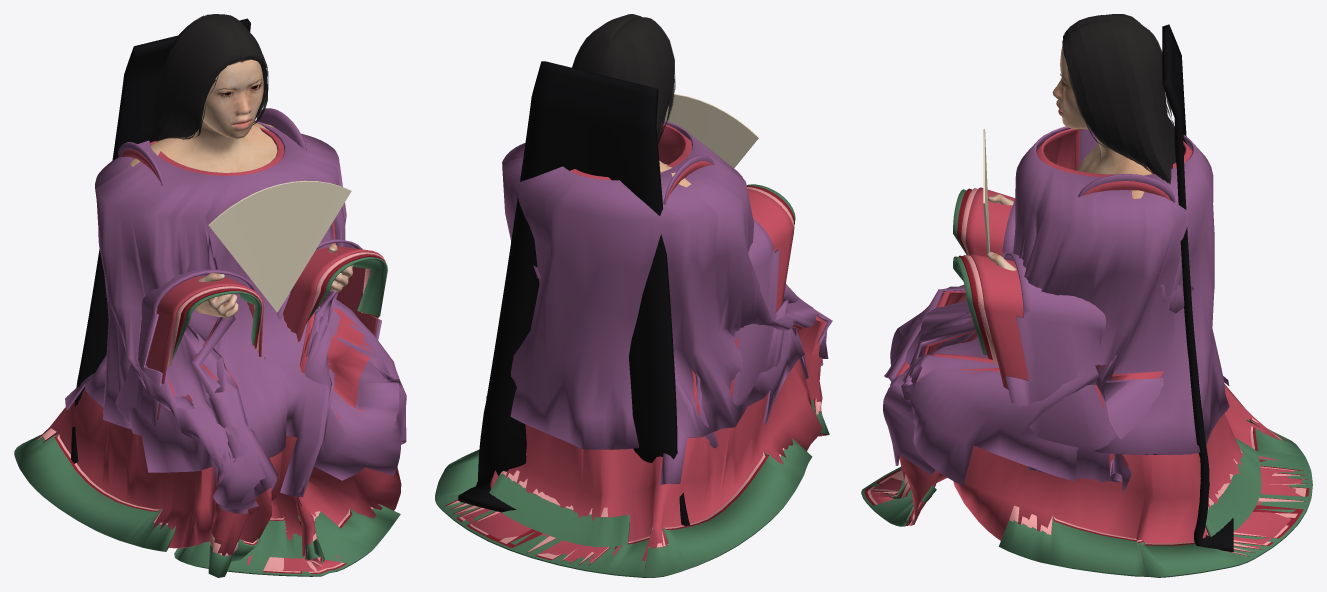
Rendered from nyo_kouchiki.glb.
The picture shows the model from 3 angles, left to right: view 1: azimuth 30°, elevation 25°; view 2: azimuth 150°, elevation 25°; view 3: azimuth 270°, elevation 25°; orthographic projection. The views are drawn at different scales.
Visible parts, largest first — view 1: kouchiki, uchiki, kasane3, ougi, Human, Human.long01, kami, karaginu_sode.R, sode.L, sode.R, kasane3.L, kasane1 (+6 smaller); view 2: kouchiki, kami, uchiki, kasane3, Human.long01, karaginu_sode.R, ougi, sode.R, kasane1, kasane2; view 3: kouchiki, uchiki, karaginu_sode.L, kasane3, Human.long01, kami, sode.L, Human, sode.R, kasane1, kasane2, karaginu_sode.R (+3 smaller).
Part boxes in pixels (box(x1,y1,x2,y2)): kouchiki: box(65, 120, 406, 513); uchiki: box(37, 127, 401, 571); kasane3: box(14, 434, 400, 577); ougi: box(208, 180, 351, 312); Human: box(130, 59, 353, 318); Human.long01: box(134, 14, 268, 143); kami: box(71, 18, 255, 463); karaginu_sode.R: box(105, 142, 266, 429); sode.L: box(283, 246, 384, 341); sode.R: box(121, 149, 263, 419); kasane3.L: box(309, 257, 387, 319); kasane1: box(38, 428, 379, 572); kouchiki: box(486, 120, 832, 485); kami: box(458, 61, 689, 525); uchiki: box(457, 123, 826, 561); kasane3: box(435, 399, 829, 577); Human.long01: box(572, 14, 675, 144); karaginu_sode.R: box(663, 155, 788, 448); ougi: box(665, 94, 759, 168); sode.R: box(666, 161, 793, 415); kasane1: box(448, 398, 824, 563); kasane2: box(444, 399, 826, 568); kouchiki: box(883, 126, 1229, 486); uchiki: box(870, 128, 1302, 548); karaginu_sode.L: box(1004, 174, 1193, 492); kasane3: box(861, 419, 1312, 577); Human.long01: box(1062, 14, 1175, 184); kami: box(1162, 24, 1233, 551); sode.L: box(968, 181, 1170, 466); Human: box(987, 46, 1151, 270); sode.R: box(965, 130, 1080, 256); kasane1: box(867, 418, 1306, 557); kasane2: box(864, 418, 1309, 563); karaginu_sode.R: box(1002, 119, 1173, 257).
Size of the model in its own units: 0.5787 by 0.8643 by 0.7297.
Materials: 12 (5 with a texture image).
